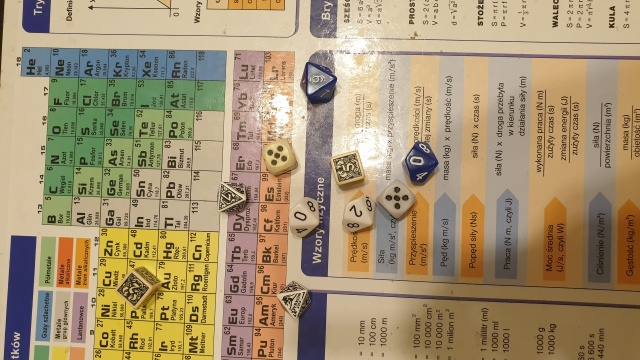d10-10: (399, 133, 438, 187), (286, 195, 321, 244)
d10-2: (339, 192, 378, 238)
d10-6: (303, 64, 327, 92)
d6-5: (377, 179, 419, 221), (259, 140, 298, 175)
d6p-2: (113, 265, 158, 308)
d6p-5: (328, 150, 365, 187)
d8p-1: (274, 280, 312, 321)
d8p-7: (216, 181, 248, 214)
